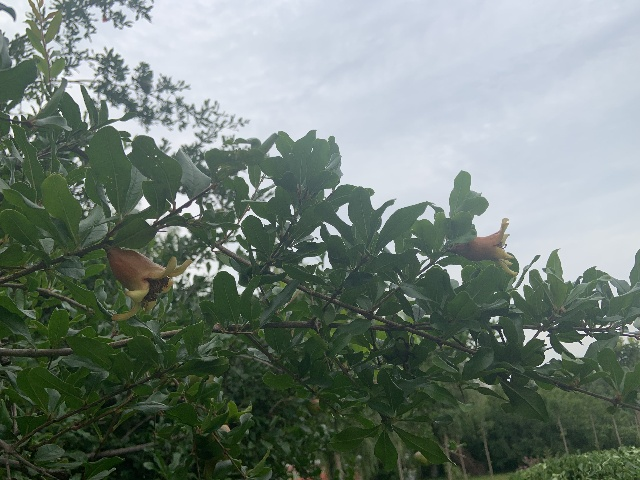early-fruit: (107, 247, 192, 320)
mid-growth: (456, 217, 517, 277)
